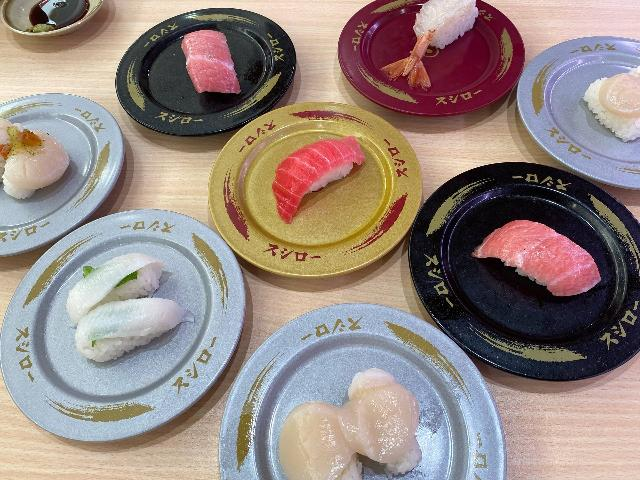janback: (420, 162, 640, 388), (116, 11, 293, 115)
jangold: (196, 91, 436, 286)
janred: (340, 8, 524, 113)
janwhite: (18, 200, 241, 430), (236, 308, 484, 480), (1, 86, 124, 240), (529, 20, 640, 168)
